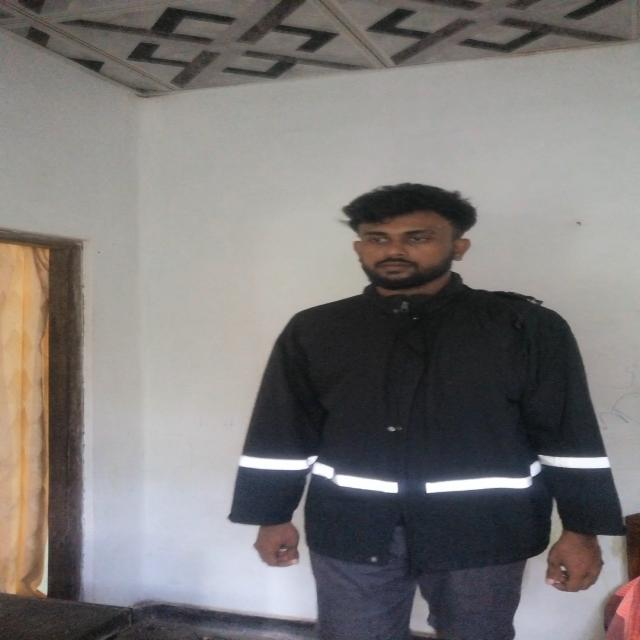Jacket_Wearer: (257, 277, 634, 553)
